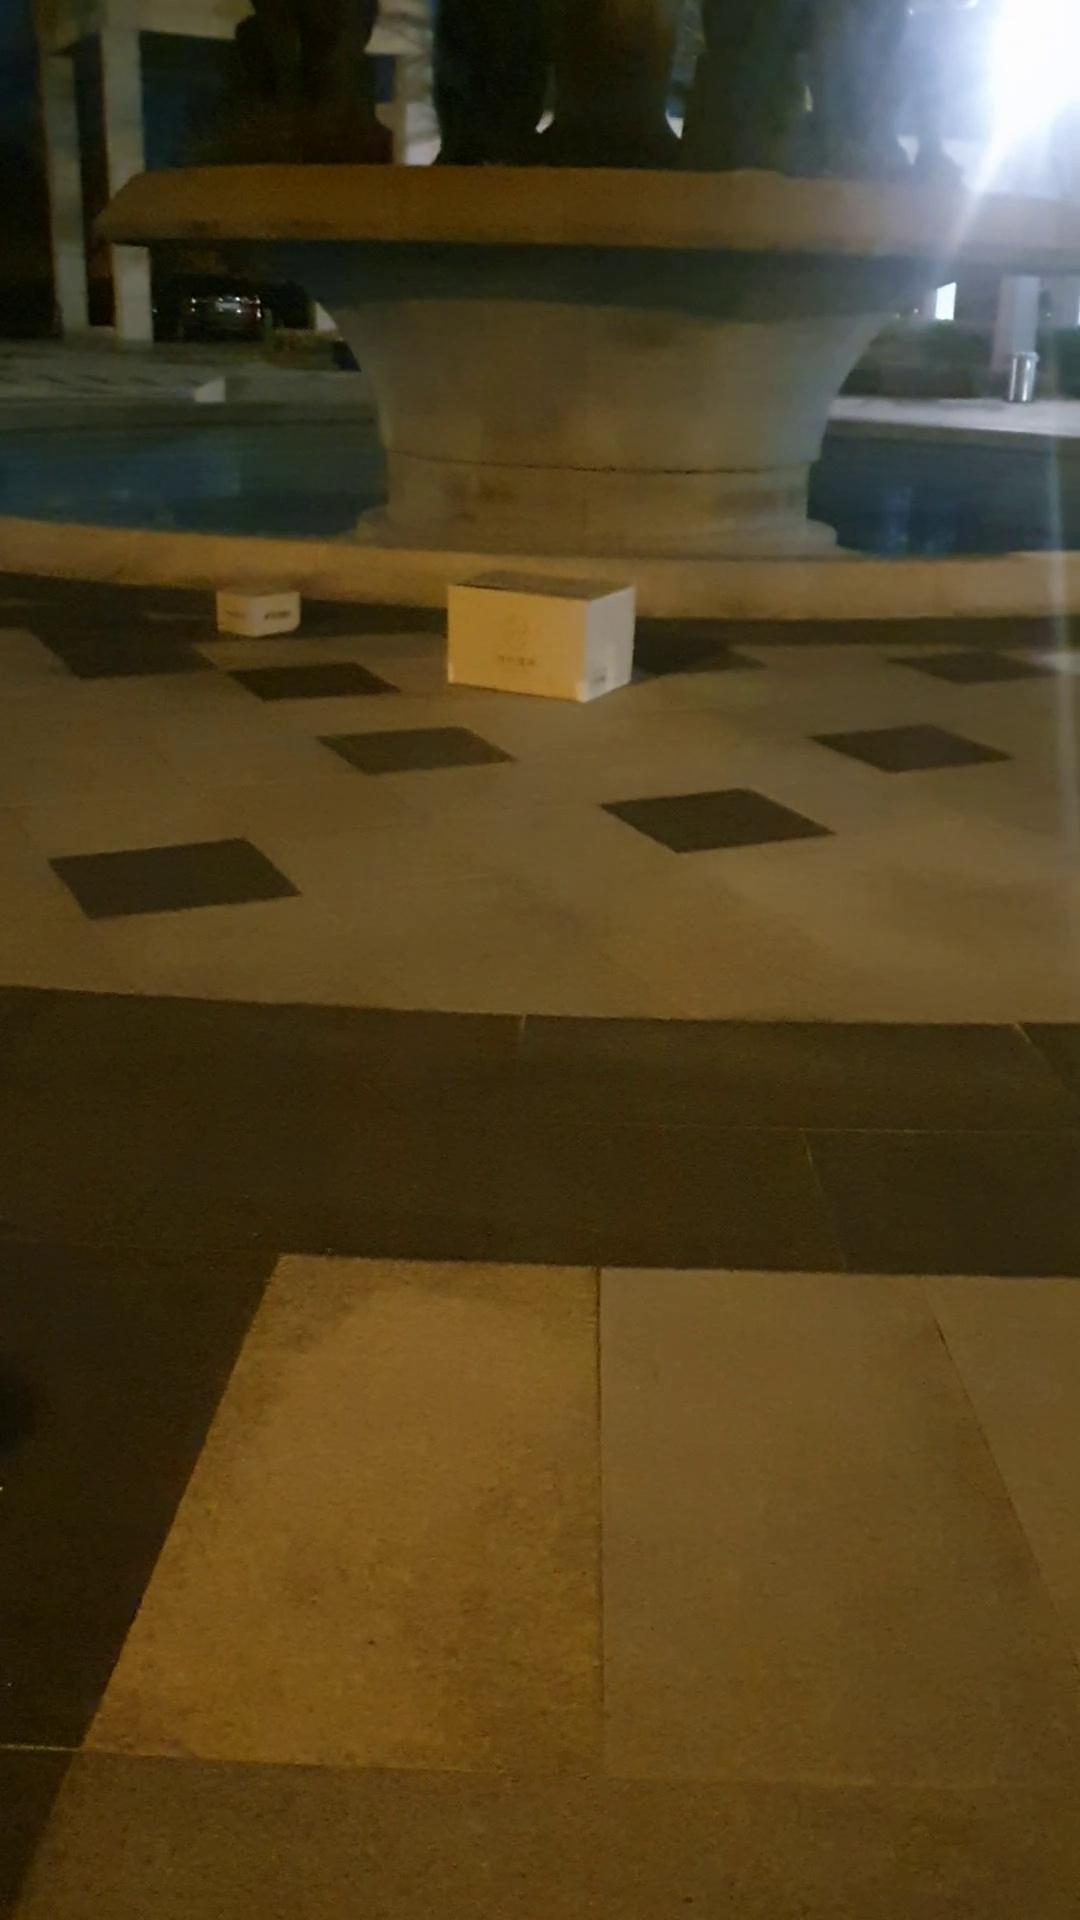Box: (423, 560, 650, 692), (196, 563, 334, 645)
